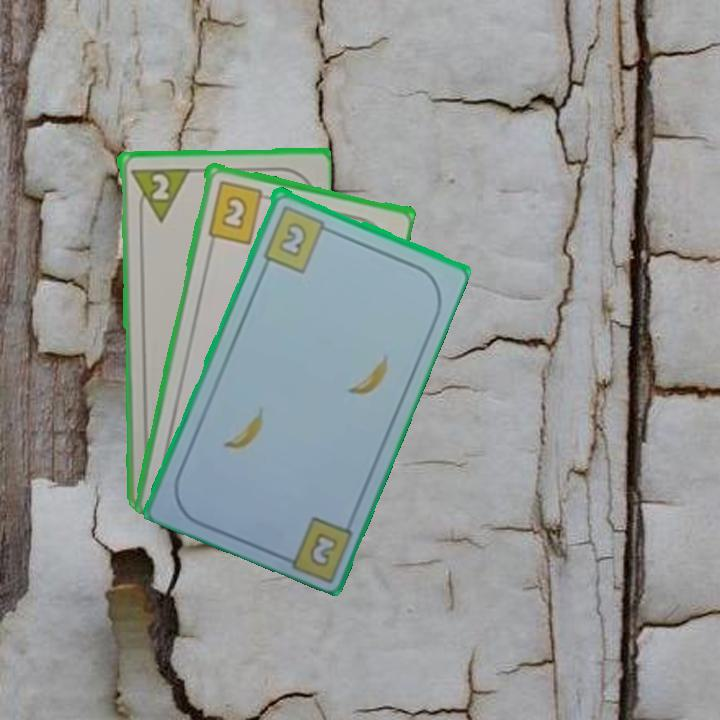2b: (259, 201, 336, 275), (203, 177, 274, 246), (305, 528, 341, 570)
2p: (126, 164, 190, 224)
